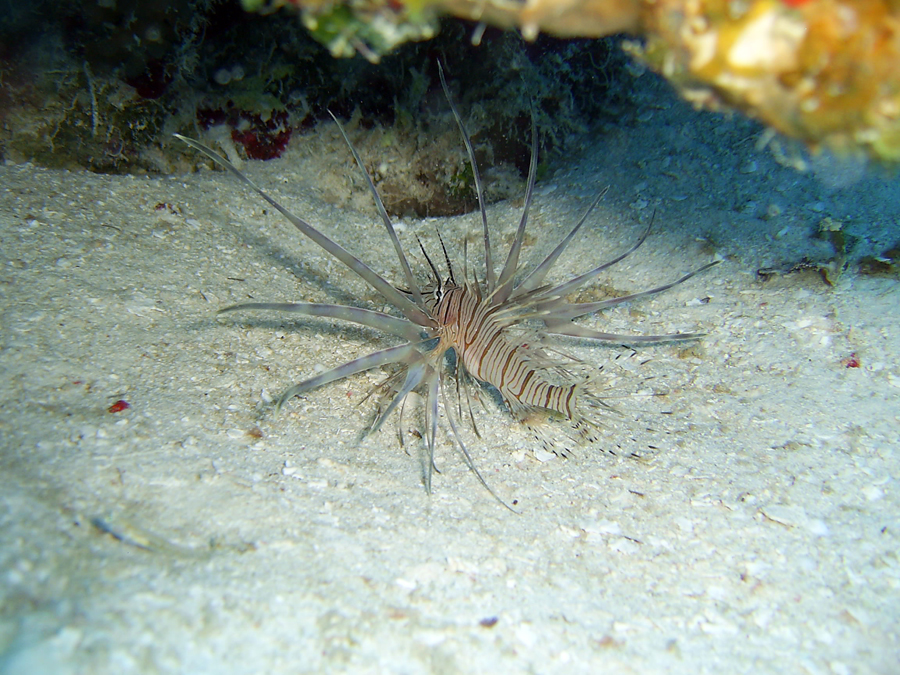Pterois_volitans: (238, 132, 617, 466)
